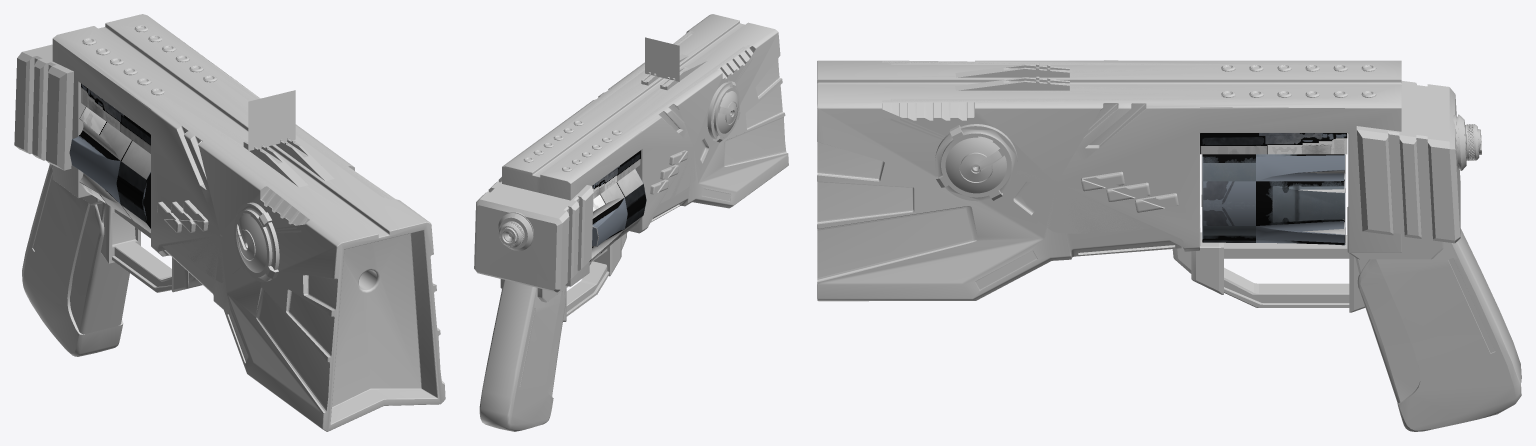
Rendered from revolver.fbx.
3 renders of one model, left to right at view 1: azimuth 30°, elevation 25°; view 2: azimuth 150°, elevation 25°; view 3: azimuth 270°, elevation 25°, orthographic. The views are drawn at different scales.
Parts seen in each view (by area): view 1: Cube.007, Plane.013, Cube.003, Circle.002, Plane.003, Cube.006; view 2: Cube.007, Plane.013, Cube.003, Circle.002, Plane.003, Cube.006; view 3: Cube.007, Plane.013, Cube.003, Circle.002, Cube.006.
Part boxes in pixels (x1,y1,x2,y2): Cube.007: (52, 14, 445, 431); Plane.013: (22, 164, 202, 356); Cube.003: (14, 44, 73, 170); Circle.002: (69, 107, 150, 232); Plane.003: (248, 90, 295, 150); Cube.006: (81, 83, 150, 153); Cube.007: (502, 14, 788, 286); Plane.013: (479, 233, 626, 431); Cube.003: (474, 177, 593, 292); Circle.002: (589, 169, 646, 262); Plane.003: (645, 37, 679, 81); Cube.006: (592, 150, 640, 198); Cube.007: (817, 60, 1401, 301); Plane.013: (1172, 207, 1521, 431); Cube.003: (1356, 81, 1481, 243); Circle.002: (1202, 154, 1345, 245); Cube.006: (1200, 133, 1347, 154).
Bounding box in the file's own units: 261 × 777 × 1253.
4 materials, 1 textured.
